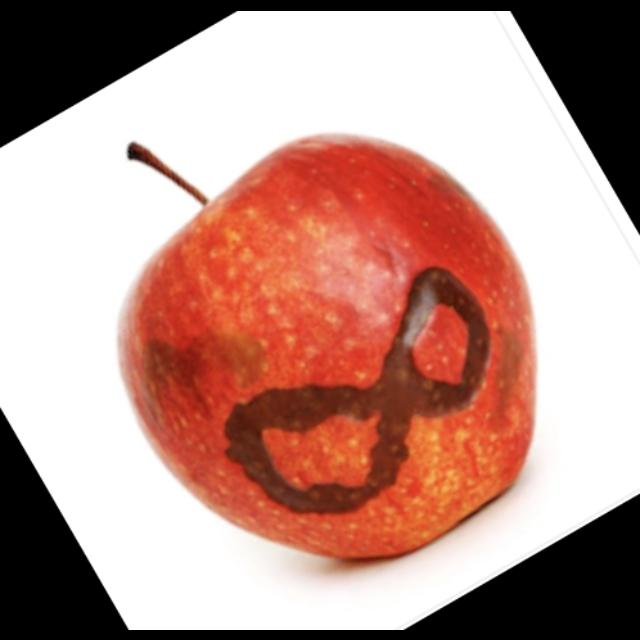Apel Tidak Segar: (120, 137, 548, 557)
